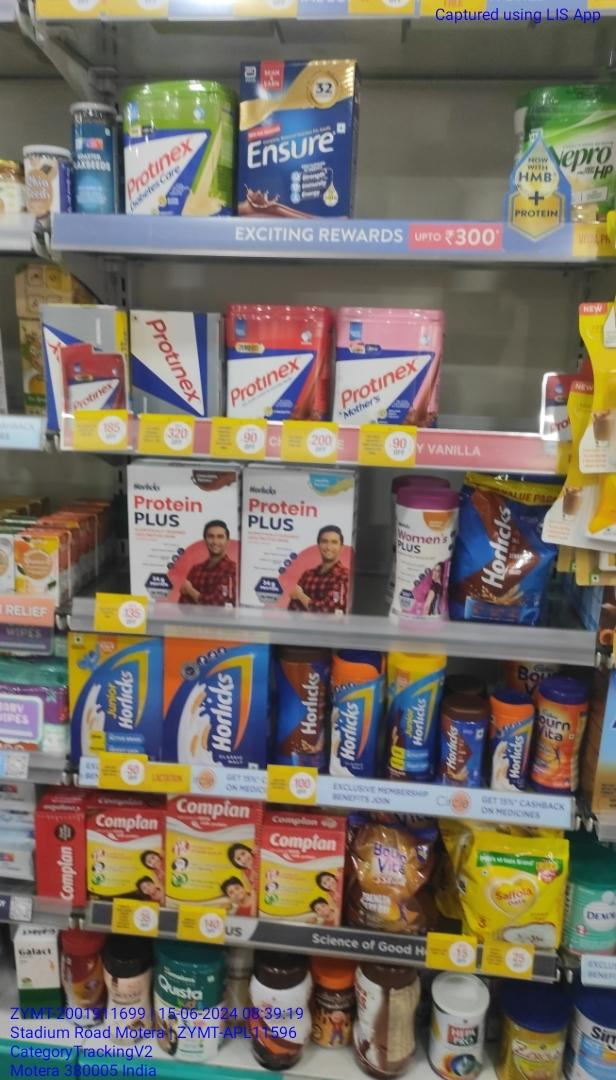BOURN_VITA_500_G_JAR: (533, 688, 576, 790)
COMPLAN_CHOCOLATE_200_GMS_PACK: (86, 807, 167, 902)
COMPLAN_KESAR_BADAM_200_GMS_PACK: (261, 826, 343, 928)
COMPLAN_KESAR_BADAM_500_GMS_PACK: (167, 792, 258, 917)
HORLICKS_JUNIOR_VANILLA_500_GM_JAR: (489, 698, 531, 794)
HORLICK_CHOCOLATE_200_G_JAR: (444, 704, 483, 790)
HORLICK_CHOCOLATE_500_G_JAR: (278, 647, 327, 768)
HORLICK_CLASSIC_MALT_500_G_JAR: (328, 655, 378, 777)
HORLICK_CLASSIC_MALT_500_G_PACK: (165, 638, 270, 769)
PROTINEX_CHOCOLATE_400_G_JAR: (223, 302, 326, 421)
